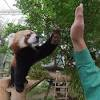redPanda: (0, 21, 64, 94)
